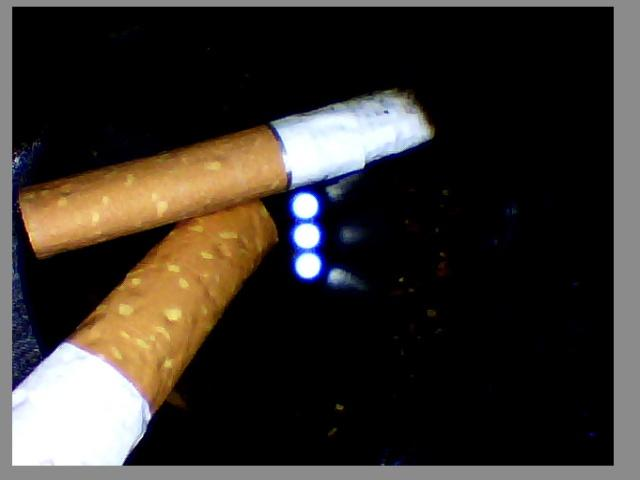megot: (12, 75, 451, 263), (12, 167, 288, 464)
